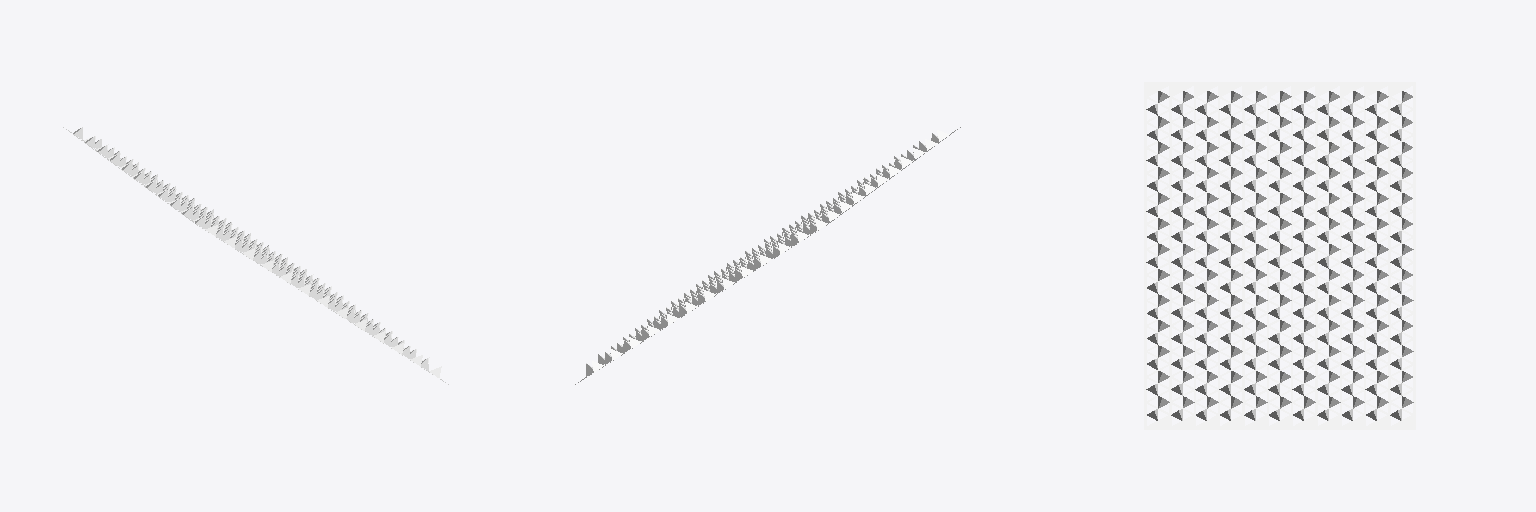
The model's file is facade.obj.
The picture shows the model from 3 angles: view 1: azimuth 30°, elevation 25°; view 2: azimuth 150°, elevation 25°; view 3: azimuth 270°, elevation 25°; orthographic projection.
Parts seen in each view (by area): view 1: none; view 2: none; view 3: object_2, object_1.
Boxes of the visible parts, x1,y1,x2,y2 form: object_2: [1146, 84, 1413, 427]; object_1: [1144, 82, 1415, 429].
Size of the model in its own units: 2.99 by 2.51 by 2.77.